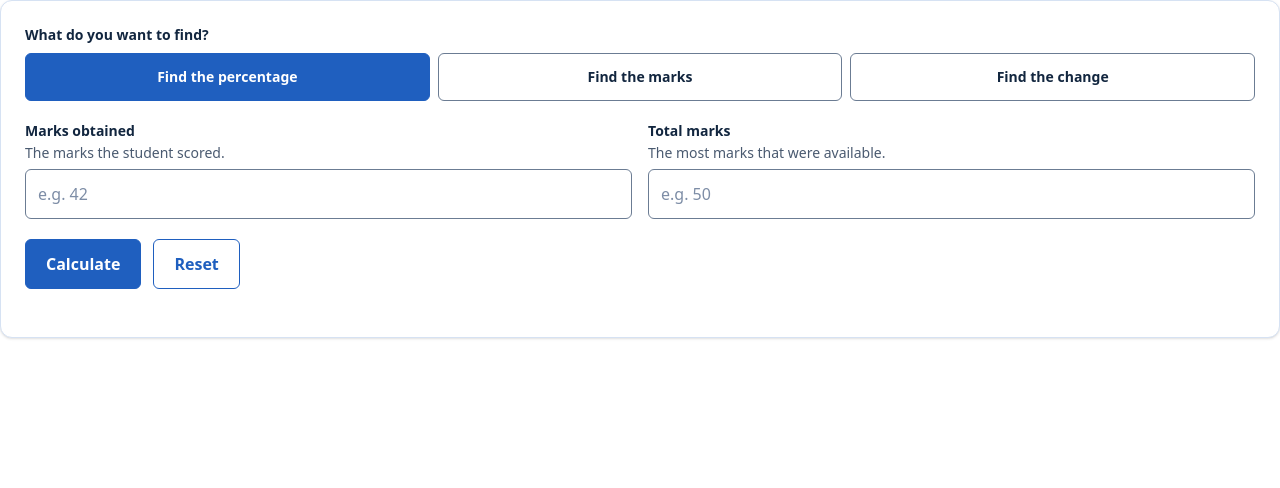
PercentageCalculator › rejects marks above the total and shows no result
Step 1. Type "60" into the field labelled "Marks obtained" → (328, 194), box [25,169,632,219]
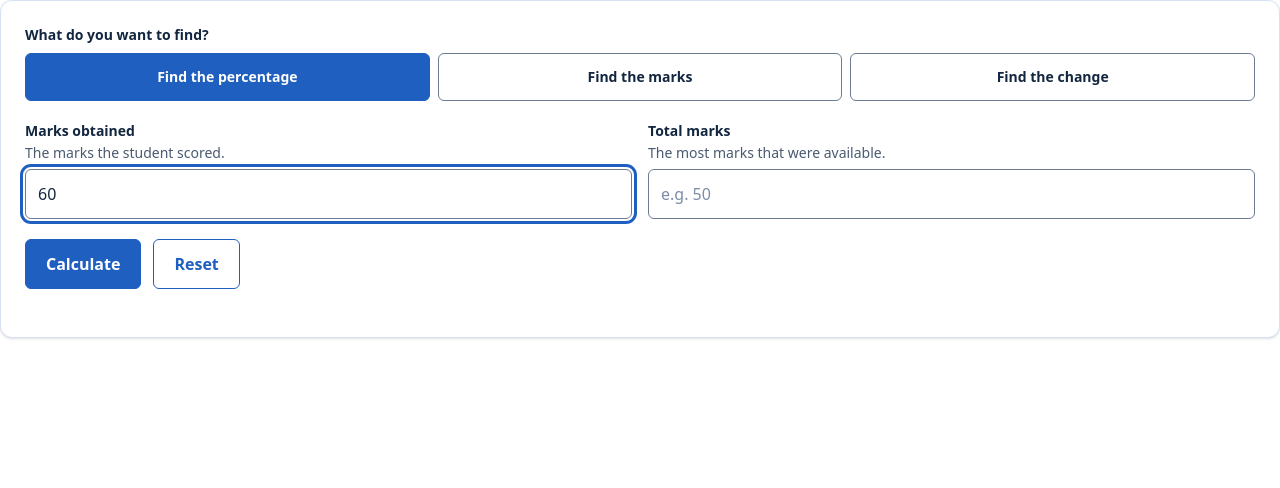
Step 2. Type "50" into the field labelled "Total marks" → (952, 194), box [648,169,1255,219]
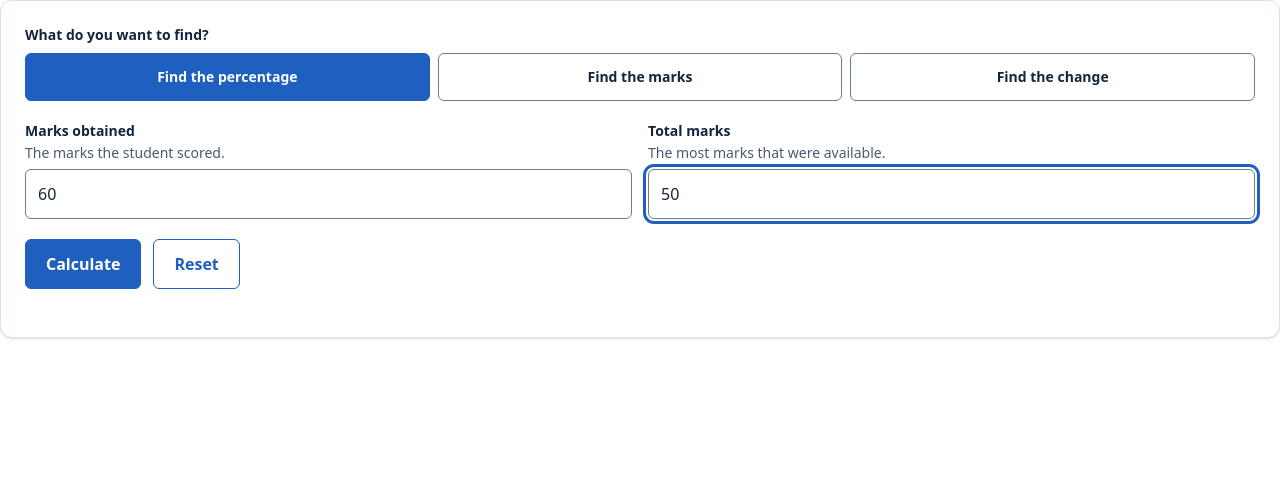
Step 3. Click the button "Calculate" → (83, 264), box [25,239,141,289]
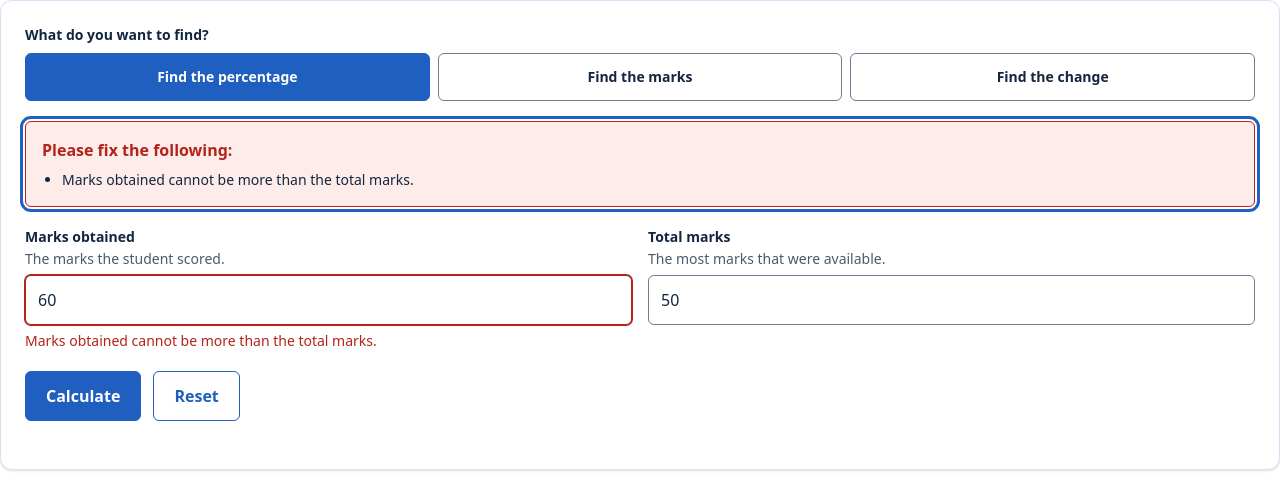
Result: the list item "Marks obtained cannot be more than the total marks." is shown at [62,170,414,189]
